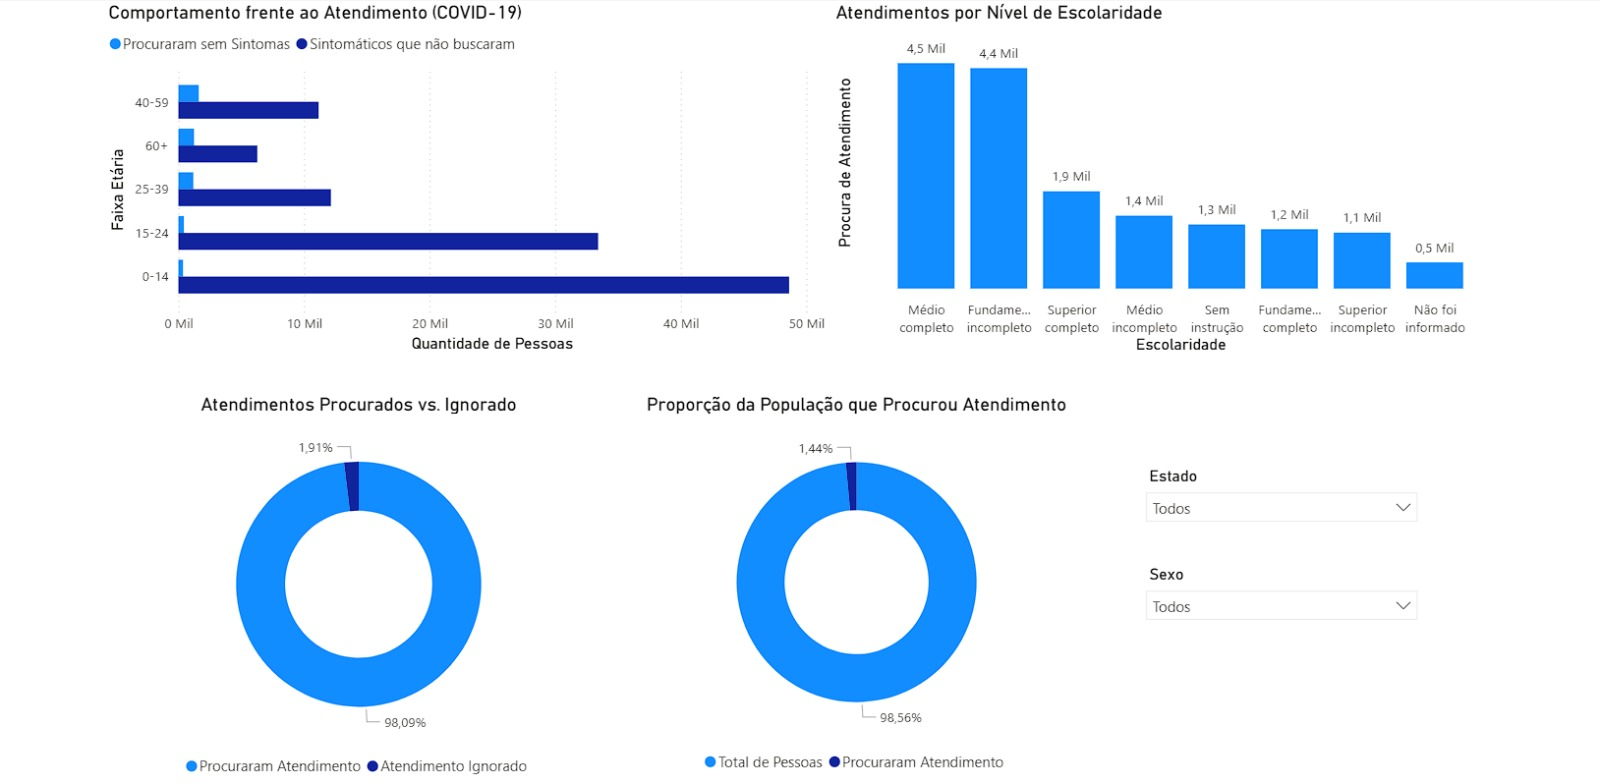

Layout of this report page (visuals, bound fields, positions):
{"tool":"powerbi","page":{"name":"comportamentos","canvas":[1280,720],"ordinal":1},"visuals":[{"type":"clusteredBarChart","title":"Comportamento frente ao Atendimento (COVID-19)","fields":{"Y":["Tabela.Qtd_Atendimento_SemSintoma","Tabela.Qtd_Sintoma_SemAtendimento"],"Category":["pnad_sot (2).faixa_idade"]},"box":[0,0,666.7,327.8],"z":0},{"type":"donutChart","title":"Proporção da População que Procurou Atendimento","fields":{"Y":["Tabela.Total Geral","Sum(pnad_sot (2).procurou_atendimento - Copiar)"]},"box":[468.5,359.3,444.4,357.4],"z":1000},{"type":"donutChart","title":"Atendimentos Procurados vs. Ignorado","fields":{"Y":["Sum(pnad_sot (2).procurou_atendimento - Copiar)","Tabela.AtendimentoIgnorado"]},"box":[0,359.3,468.5,361.1],"z":2000},{"type":"clusteredColumnChart","title":"Atendimentos por Nível de Escolaridade","fields":{"Category":["pnad_sot (2).escolaridade"],"Y":["Sum(pnad_sot (2).procurou_atendimento - Copiar)"]},"box":[666.7,0,613,327.8],"z":3000},{"type":"slicer","fields":{"Values":["pnad_sot (2).uf_sigla"]},"box":[946.3,422.2,268.5,90.7],"z":4000},{"type":"slicer","fields":{"Values":["pnad_sot (2).sexo"]},"box":[946.3,513,268.5,88.9],"z":5000}]}

Visuals, with their boxes on the page's 1280x720 design canvas (x1, y1, x2, y2). These are canvas units, not pixel positions in the 1600x784 screenshot, which may show the page scaled, cropped or inside an application window:
"Comportamento frente ao Atendimento (COVID-19)" clusteredBarChart: [0,0,667,328]
"Proporção da População que Procurou Atendimento" donutChart: [468,359,913,717]
"Atendimentos Procurados vs. Ignorado" donutChart: [0,359,468,720]
"Atendimentos por Nível de Escolaridade" clusteredColumnChart: [667,0,1280,328]
slicer - pnad_sot (2).uf_sigla: [946,422,1215,513]
slicer - pnad_sot (2).sexo: [946,513,1215,602]
